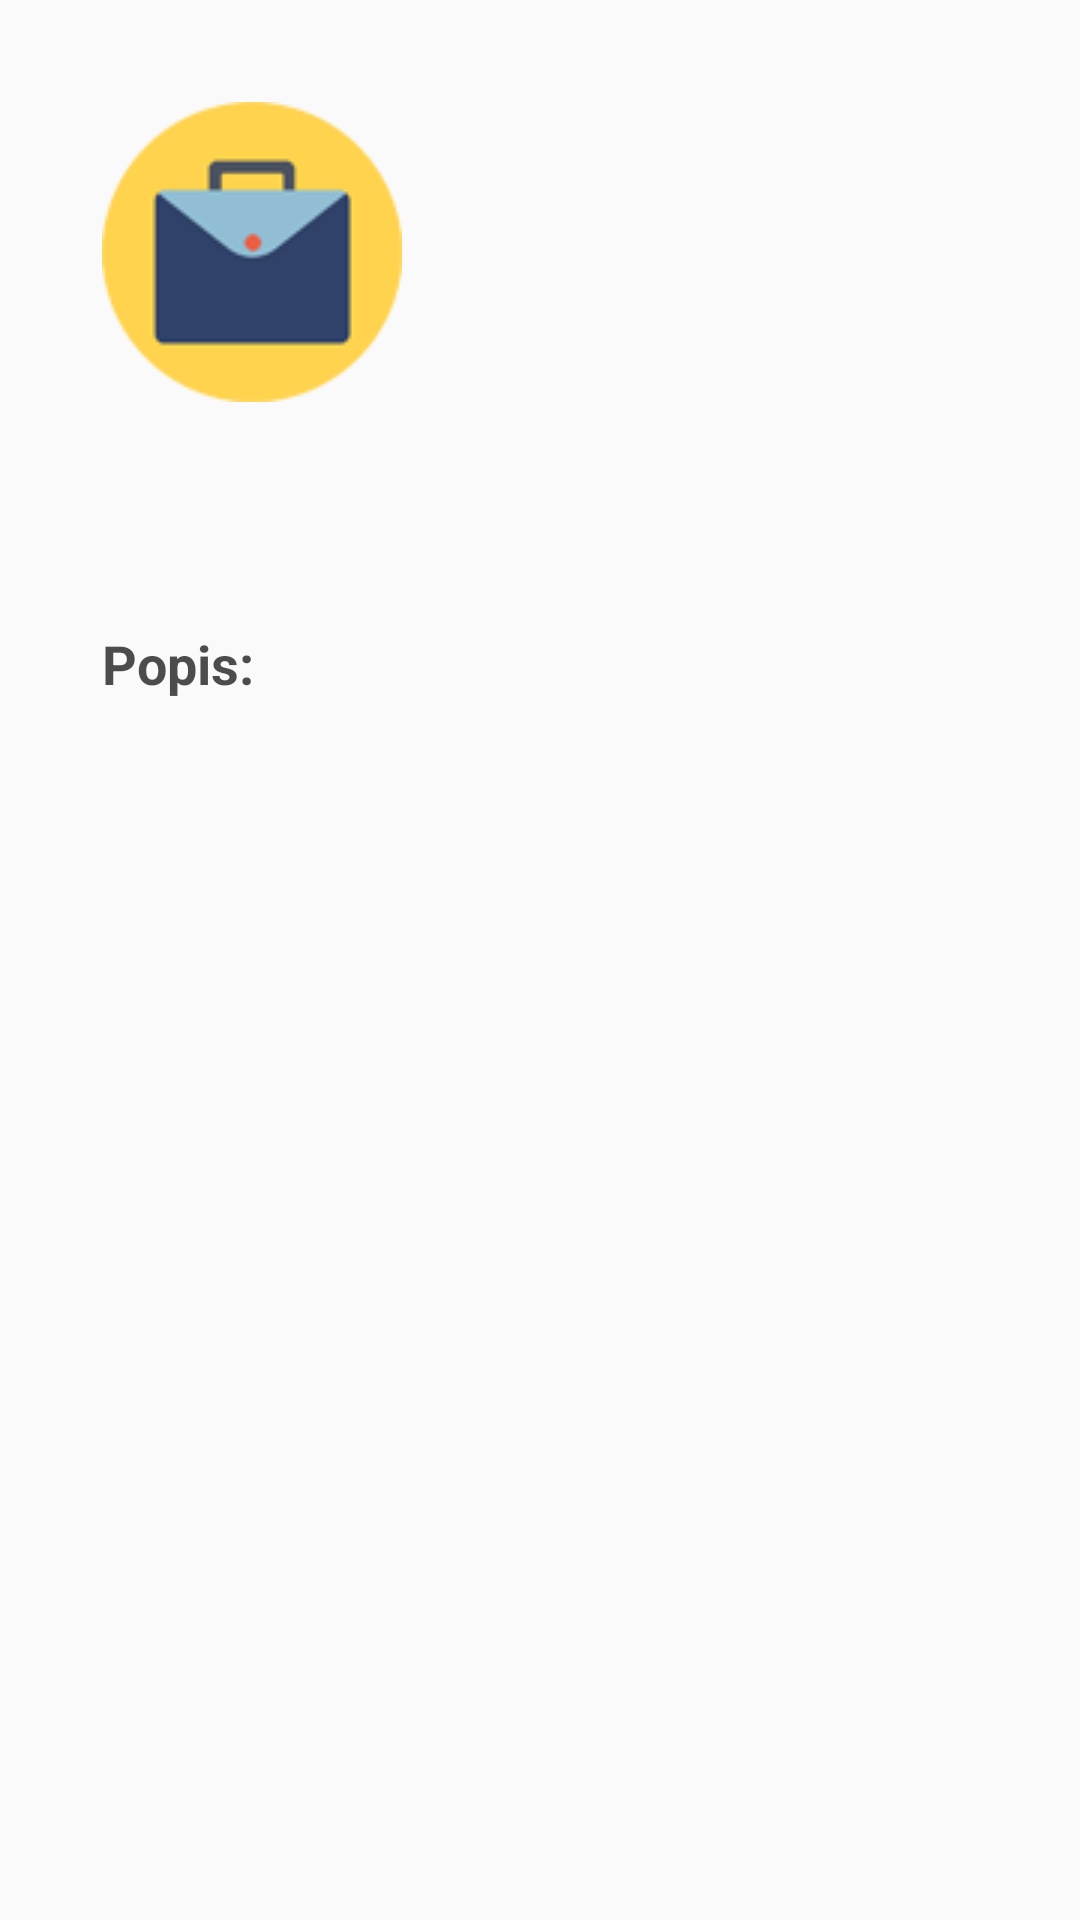

Named icons in this screenshot (1080px x 1920px) and their centers, (x=x, y=y):
kat prijmy praca: (x=252, y=252)
